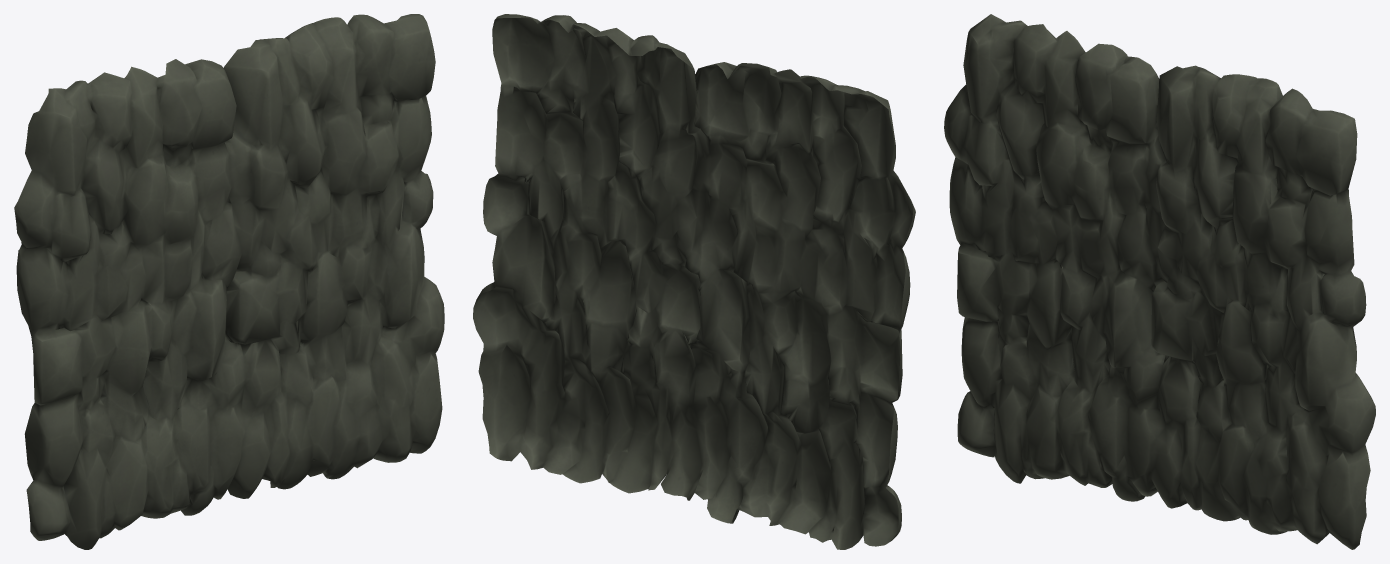
Rendered from halfWallChunk_a.fbx.
3 views of the same model, side by side, from view 1: azimuth 30°, elevation 25°; view 2: azimuth 150°, elevation 25°; view 3: azimuth 330°, elevation 25° (orthographic). The views are drawn at different scales.
Visible parts, largest first — view 1: wall_a_straight; view 2: wall_a_straight; view 3: wall_a_straight.
Part boxes in pixels (x1,y1,x2,y2): wall_a_straight: [14, 14, 444, 549]; wall_a_straight: [473, 14, 915, 549]; wall_a_straight: [944, 14, 1375, 549].
Bounding box in the file's own units: 1713 × 1785 × 187.
Materials: 1 (1 with a texture image).
